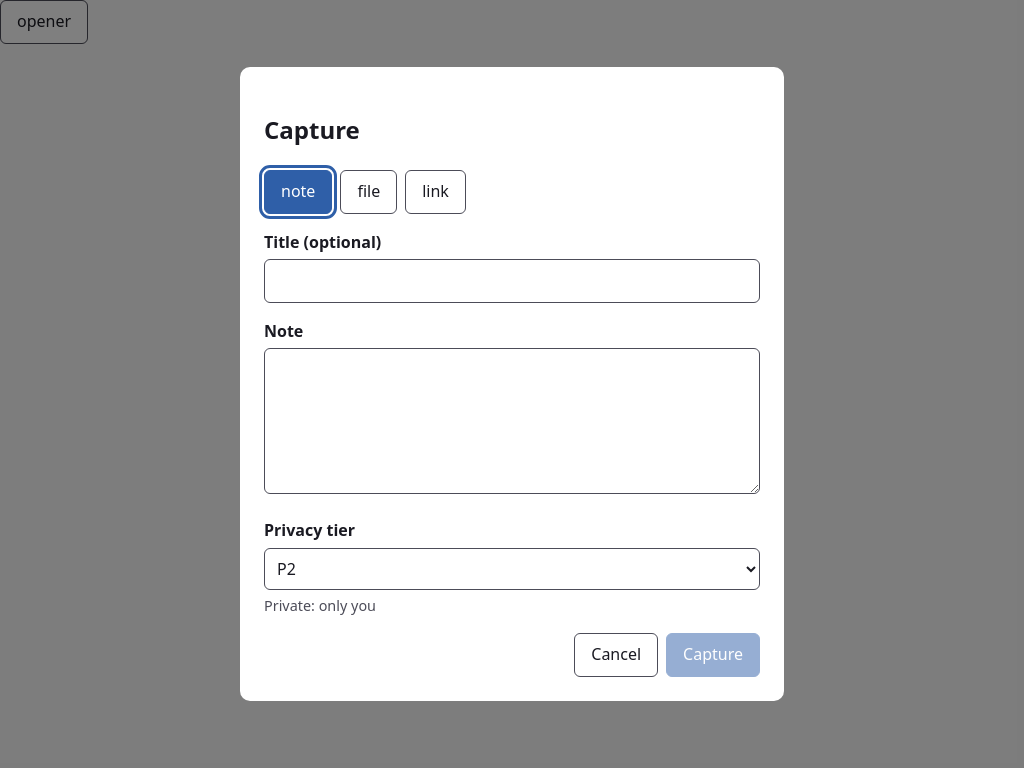
CaptureQuickAdd (DESIGN_SYSTEM 4.2, ACCESSIBILITY 4.3) › shows the error envelope message on failure and stays open
The image size is (1024, 768).
Type "x" into the text box labelled "Note" at (512, 421), box x1=264 y1=348 x2=760 y2=494
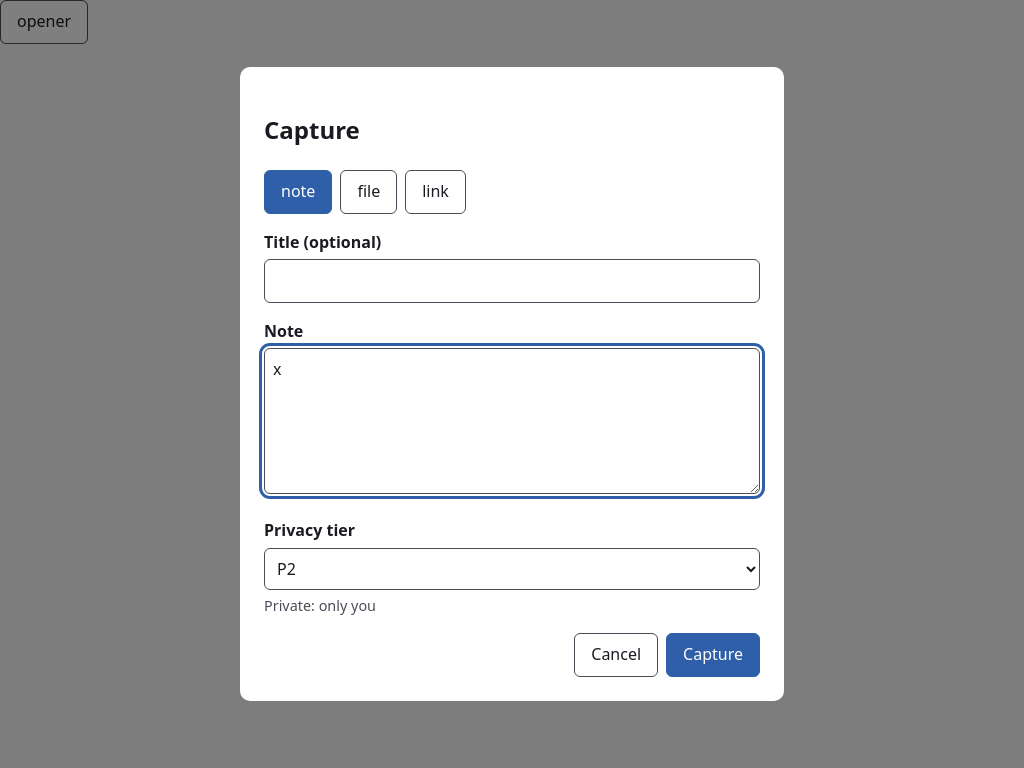
Click the button "Capture" at (713, 655), box x1=666 y1=633 x2=760 y2=677
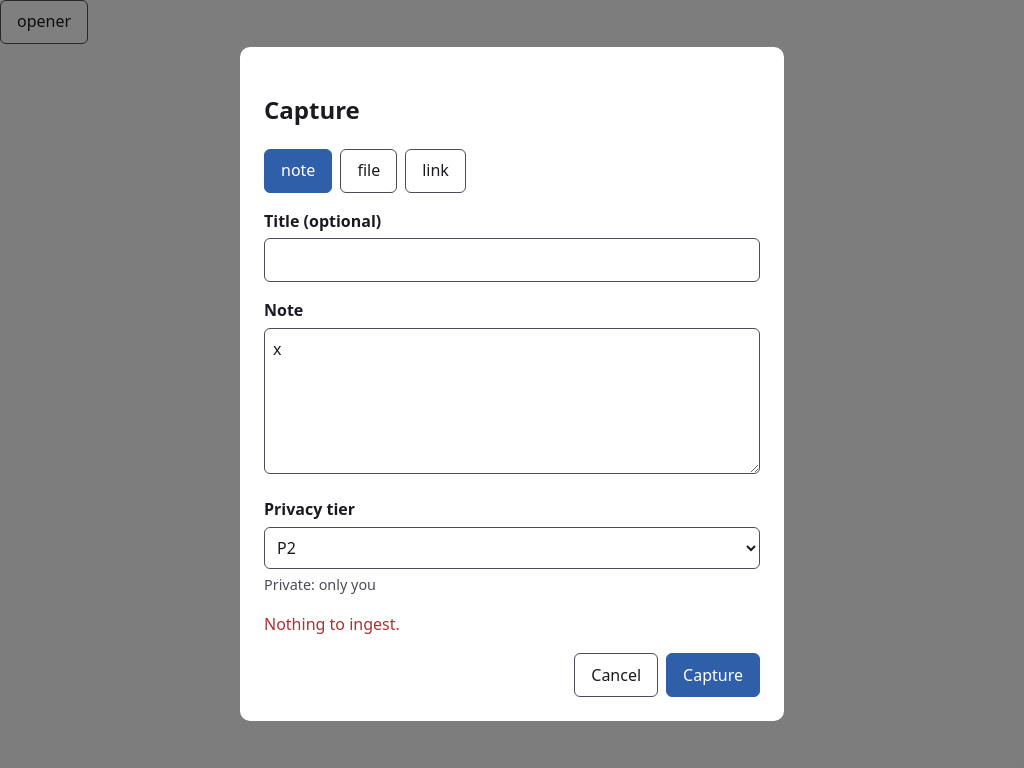
Now the message reads "Nothing to ingest.", box x1=264 y1=613 x2=400 y2=635
